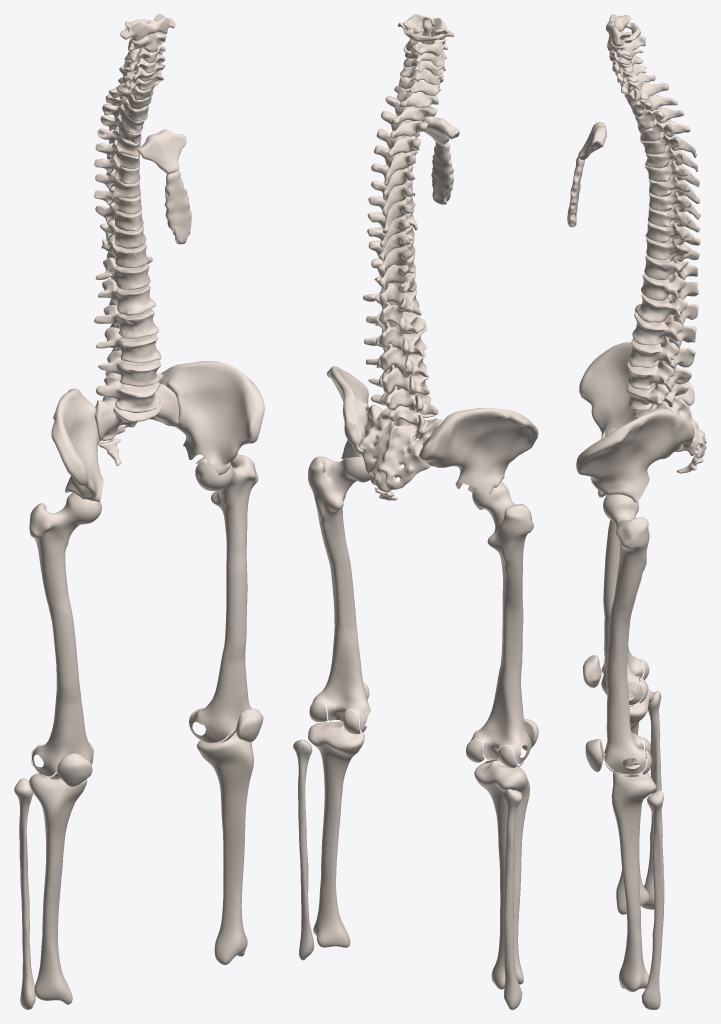
File: female-skeletal.glb
The picture shows the model from 3 angles, left to right: view 1: azimuth 30°, elevation 25°; view 2: azimuth 150°, elevation 25°; view 3: azimuth 270°, elevation 25°; orthographic projection. The views are drawn at different scales.
Visible parts, largest first — view 1: VH_F_femur_R, VH_F_femur_L, VH_F_ilium_compact_bone_L, VH_F_tibia_L, VH_F_tibia_R, VH_F_ilium_compact_bone_R, VH_F_fibula_R, VH_F_sacrum, VH_F_lumbar_vertebra_6, VH_F_sternum, VH_F_manubrium, VH_F_lumbar_vertebra_4 (+15 smaller); view 2: VH_F_femur_L, VH_F_femur_R, VH_F_ilium_compact_bone_R, VH_F_tibia_L, VH_F_tibia_R, VH_F_sacrum, VH_F_fibula_R, VH_F_ilium_compact_bone_L, VH_F_fibula_L, VH_F_lumbar_vertebra_3, VH_F_sternum, VH_F_lumbar_vertebra_2 (+20 smaller); view 3: VH_F_femur_L, VH_F_ilium_compact_bone_L, VH_F_tibia_L, VH_F_ilium_compact_bone_R, VH_F_fibula_L, VH_F_femur_R, VH_F_fibula_R, VH_F_lumbar_vertebra_4, VH_F_lumbar_vertebra_3, VH_F_lumbar_vertebra_2, VH_F_lumbar_vertebra_5, VH_F_tibia_R (+24 smaller).
Boxes of the visible parts, box(x1,y1,x2,y2) form: VH_F_femur_R: box(29, 492, 101, 776); VH_F_femur_L: box(189, 454, 258, 742); VH_F_ilium_compact_bone_L: box(159, 361, 264, 475); VH_F_tibia_L: box(197, 727, 253, 964); VH_F_tibia_R: box(29, 772, 87, 1004); VH_F_ilium_compact_bone_R: box(51, 388, 103, 502); VH_F_fibula_R: box(14, 778, 35, 1009); VH_F_sacrum: box(95, 383, 179, 441); VH_F_lumbar_vertebra_6: box(96, 372, 163, 412); VH_F_sternum: box(164, 170, 191, 244); VH_F_manubrium: box(136, 129, 186, 173); VH_F_lumbar_vertebra_4: box(96, 327, 161, 362); VH_F_femur_L: box(308, 456, 376, 732); VH_F_femur_R: box(471, 481, 533, 764); VH_F_ilium_compact_bone_R: box(419, 408, 538, 494); VH_F_tibia_L: box(308, 721, 364, 947); VH_F_tibia_R: box(474, 758, 529, 989); VH_F_sacrum: box(359, 404, 442, 492); VH_F_fibula_R: box(502, 789, 522, 1009); VH_F_ilium_compact_bone_L: box(326, 366, 376, 460); VH_F_fibula_L: box(293, 739, 314, 960); VH_F_lumbar_vertebra_3: box(364, 325, 427, 375); VH_F_sternum: box(431, 142, 453, 204); VH_F_lumbar_vertebra_2: box(366, 311, 425, 350); VH_F_femur_L: box(603, 494, 649, 774); VH_F_ilium_compact_bone_L: box(576, 408, 694, 502); VH_F_tibia_L: box(611, 765, 656, 991); VH_F_ilium_compact_bone_R: box(579, 342, 694, 438); VH_F_fibula_L: box(641, 790, 664, 1009); VH_F_femur_R: box(601, 438, 643, 704); VH_F_fibula_R: box(641, 691, 661, 909); VH_F_lumbar_vertebra_4: box(629, 336, 695, 372); VH_F_lumbar_vertebra_3: box(632, 311, 696, 350); VH_F_lumbar_vertebra_2: box(635, 293, 698, 326); VH_F_lumbar_vertebra_5: box(627, 360, 691, 392); VH_F_tibia_R: box(616, 685, 653, 914).
Bounding box in the file's own units: 0.3598 × 1.45 × 0.1953.
